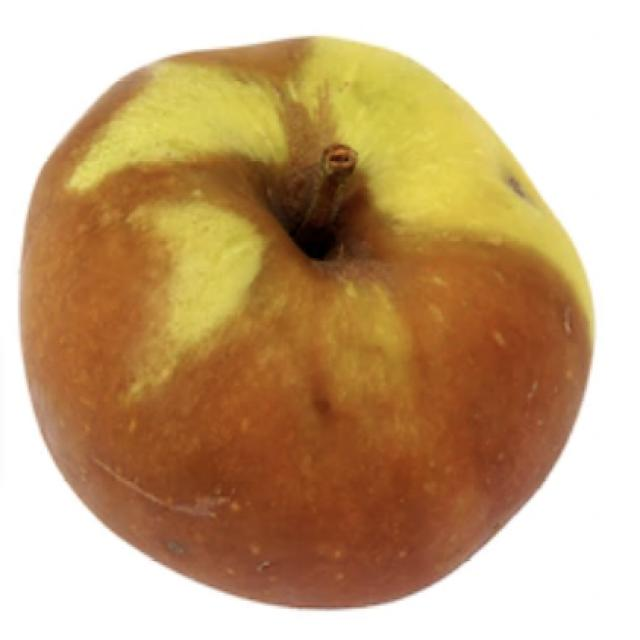rotten_apple: (16, 38, 593, 614)
